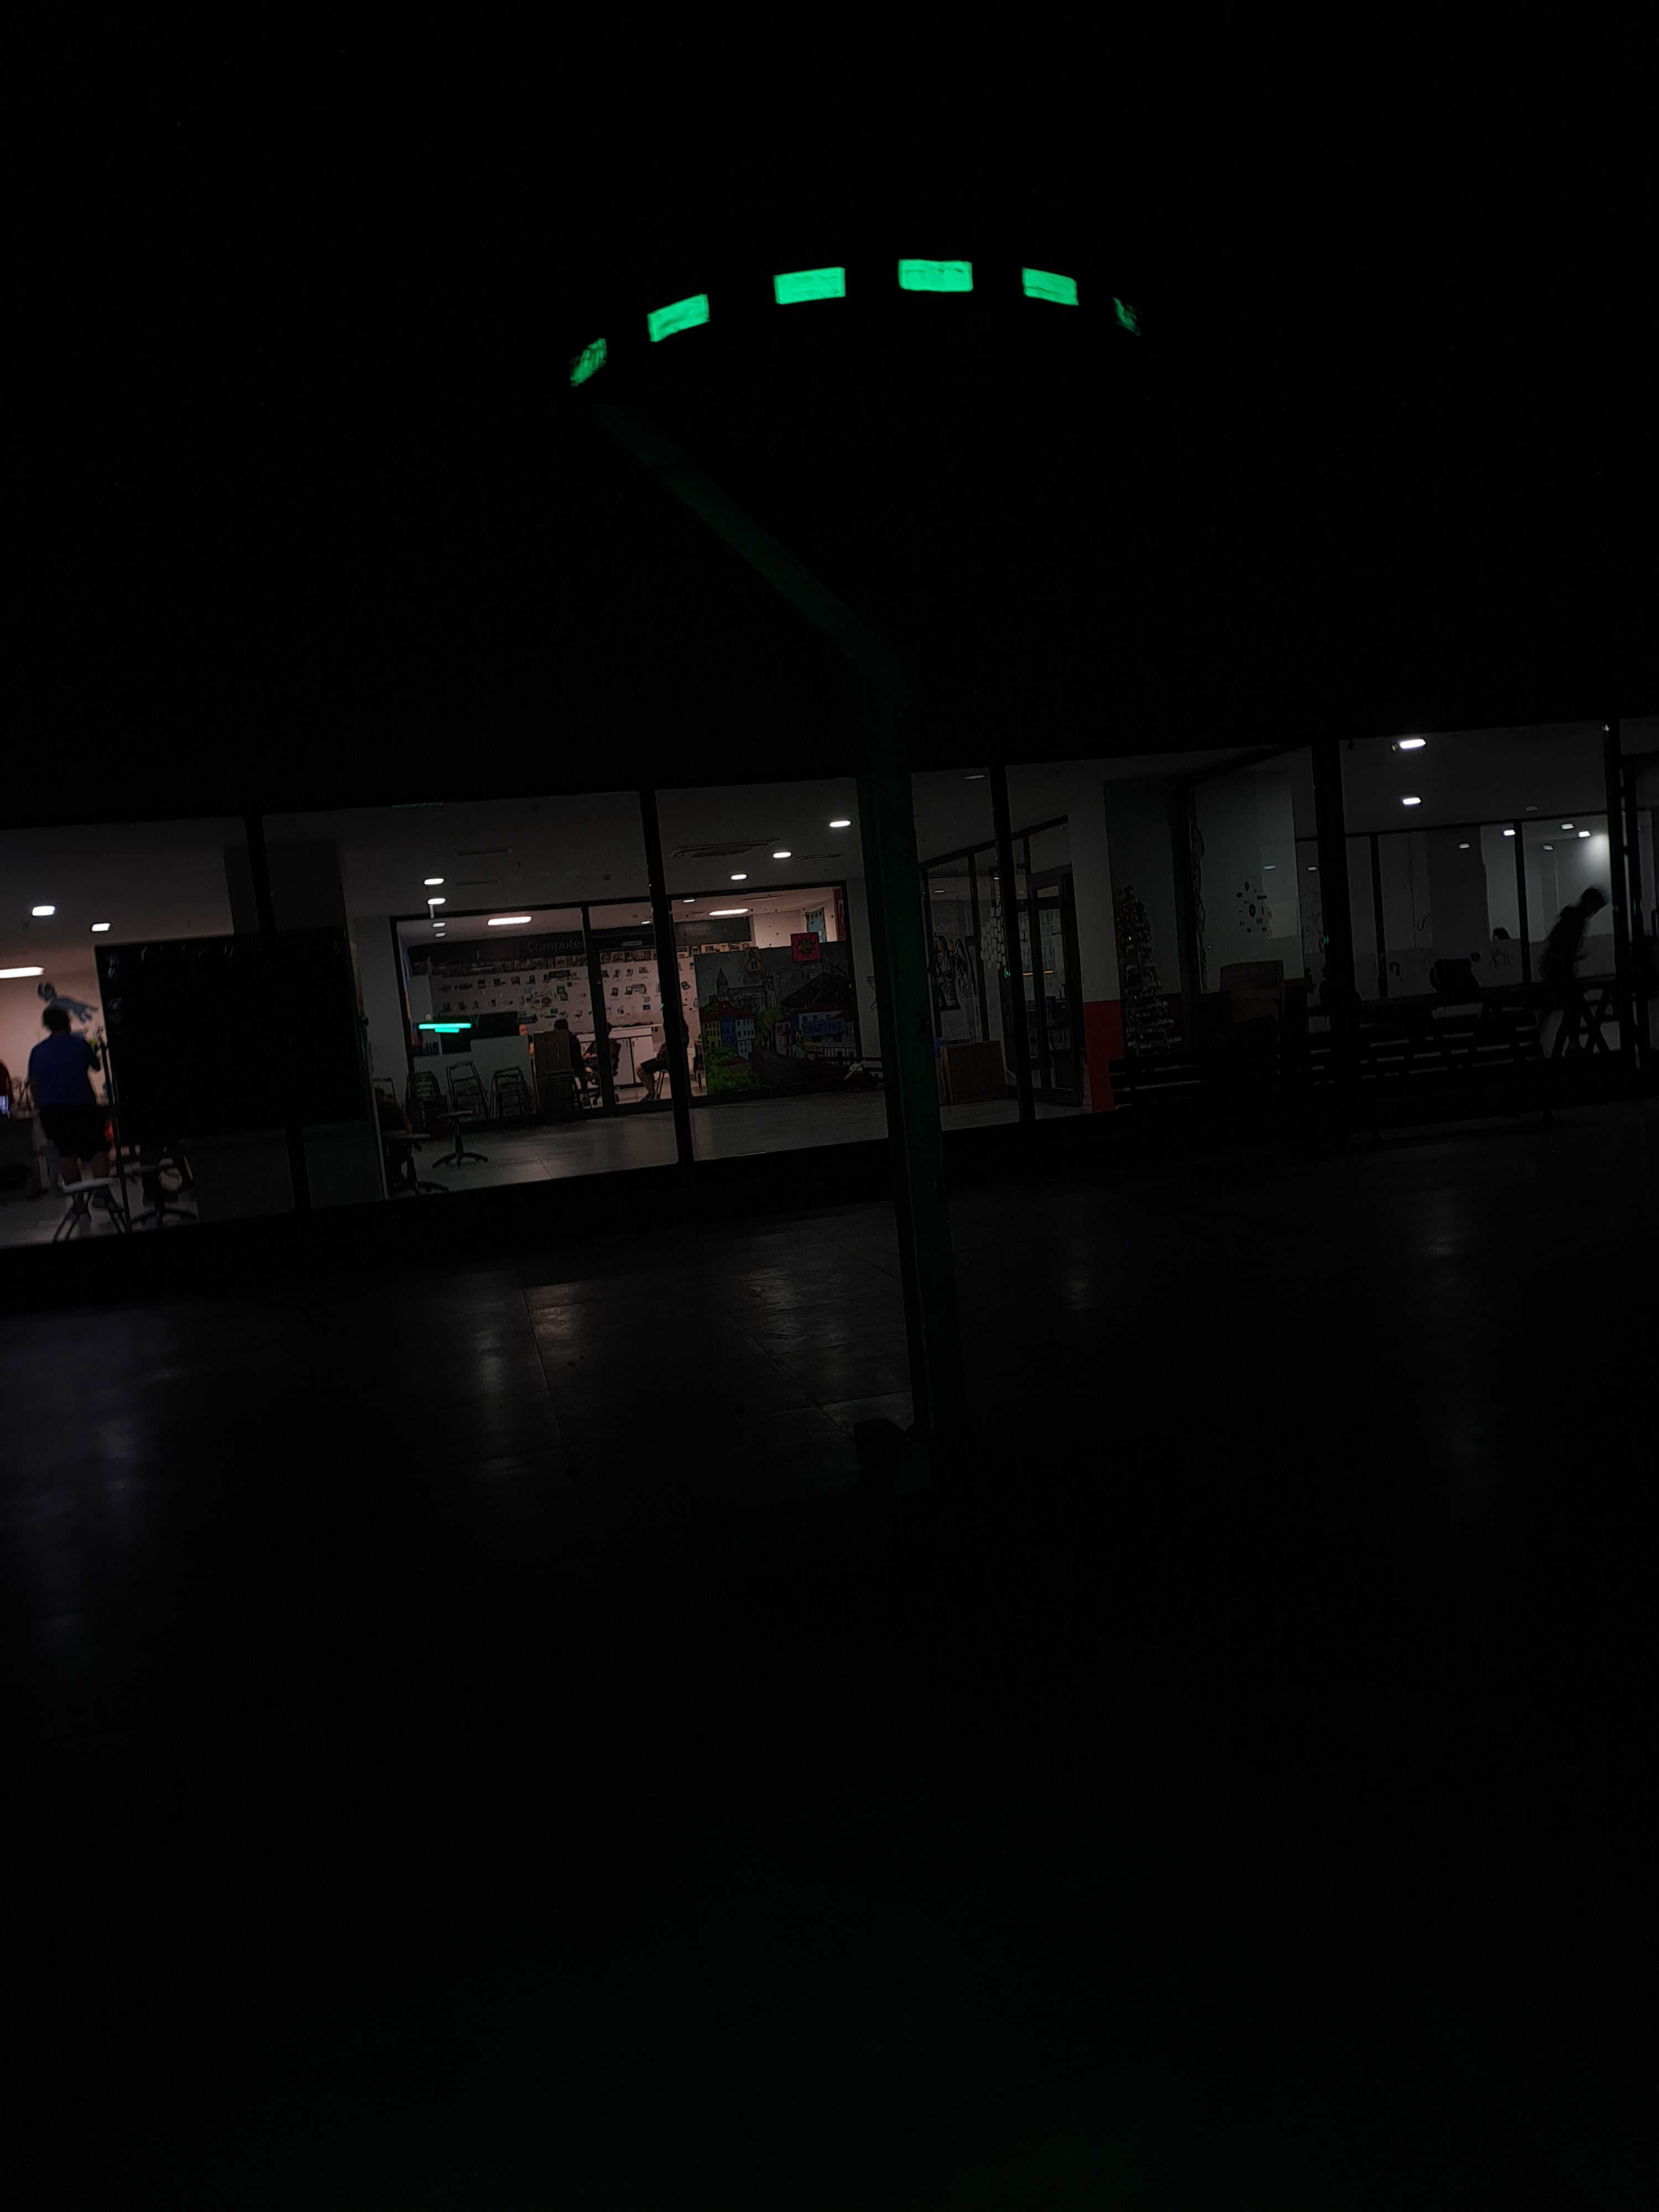hoop: (568, 256, 1143, 387)
